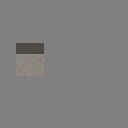supply_truck: (16, 43, 44, 76)
